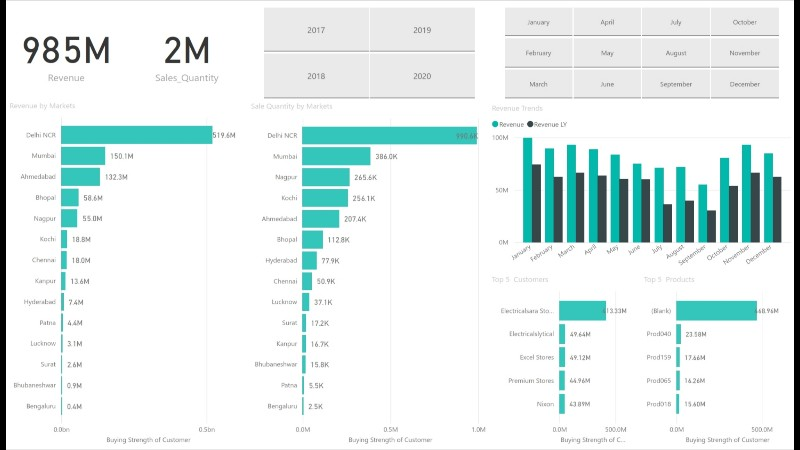

Layout of this report page (visuals, bound fields, positions):
{"tool":"powerbi","page":{"name":"Page 1","canvas":[1280,720],"ordinal":0},"visuals":[{"type":"card","fields":{"Values":["BaseMeasures.Revenue"]},"box":[0,0,196.2,157.2],"z":0},{"type":"card","fields":{"Values":["BaseMeasures.Sales_Quantity"]},"box":[196.2,0,196.2,157.2],"z":1000},{"type":"barChart","title":"Revenue by Markets","fields":{"Y":["BaseMeasures.Revenue"],"Category":["sales markets.markets_name"]},"box":[1.4,157.2,391,563.5],"z":2000},{"type":"barChart","title":"Sale Quantity by Markets","fields":{"Category":["sales markets.markets_name"],"Y":["BaseMeasures.Sales_Quantity"]},"box":[392.6,157.5,391.4,562.5],"z":3000},{"type":"slicer","fields":{"Values":["sales date.year"]},"box":[393.2,0,391.8,160.9],"z":4000},{"type":"slicer","fields":{"Values":["sales date.cy_date.Variation.Date Hierarchy.Month"]},"box":[784,0,494.8,161.2],"z":5000},{"type":"barChart","title":"Top 5  Customers","fields":{"Category":["sales customers.custmer_name"],"Y":["BaseMeasures.Revenue"]},"box":[784,439.3,247.3,280.7],"z":6000},{"type":"barChart","title":"Top 5  Products","fields":{"Y":["BaseMeasures.Revenue"],"Category":["sales products.product_code"]},"box":[1031.3,439.3,247.3,280.7],"z":7000},{"type":"lineClusteredColumnComboChart","title":"Revenue Trends","fields":{"Y":["BaseMeasures.Revenue","BaseMeasures.Revenue LY"],"Category":["sales date.date.Variation.Date Hierarchy.Month"]},"box":[784,161,495,278],"z":8000}]}

Visuals, with their boxes in screenshot pixels (x1, y1, x2, y2), scaled from the page's 1280x720 canvas onto the 800x450 screenshot:
card - BaseMeasures.Revenue: bbox(0, 0, 123, 98)
card - BaseMeasures.Sales_Quantity: bbox(123, 0, 245, 98)
"Revenue by Markets" barChart: bbox(1, 98, 245, 449)
"Sale Quantity by Markets" barChart: bbox(245, 98, 490, 449)
slicer - sales date.year: bbox(246, 0, 491, 101)
slicer - sales date.cy_date.Variation.Date Hierarchy.Month: bbox(490, 0, 799, 101)
"Top 5  Customers" barChart: bbox(490, 275, 645, 449)
"Top 5  Products" barChart: bbox(645, 275, 799, 449)
"Revenue Trends" lineClusteredColumnComboChart: bbox(490, 101, 799, 274)
